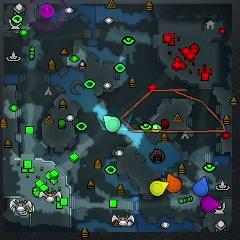Other: (40, 4, 54, 18)
p1: (193, 176, 209, 196)
p2: (103, 115, 120, 132)
p3: (201, 196, 219, 211)
p4: (150, 180, 169, 196)
p5: (167, 172, 182, 191)
